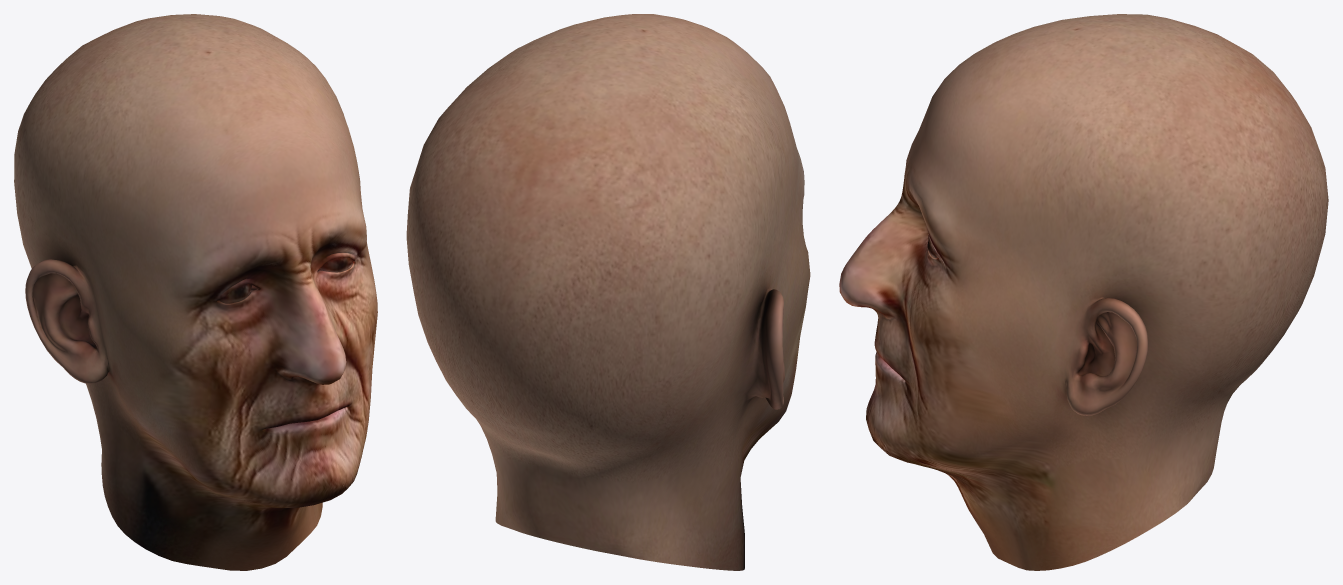
Rendered from old_man_clem_head_with_blendshapes.glb.
3 views of the same model, side by side, from view 1: azimuth 30°, elevation 25°; view 2: azimuth 150°, elevation 25°; view 3: azimuth 270°, elevation 25° (orthographic). The views are drawn at different scales.
Parts seen in each view (by area): view 1: Head; view 2: Head; view 3: Head.
Part boxes in pixels (bbox=[...]): Head: bbox=[14, 14, 377, 570]; Head: bbox=[406, 14, 810, 570]; Head: bbox=[839, 14, 1328, 570].
Size of the model in its own units: 0.1899 by 0.2758 by 0.2376.
Materials: 1 (1 with a texture image).
